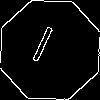I: (25, 25, 57, 72)
